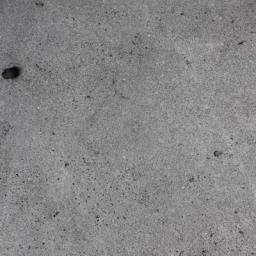FOD: (2, 63, 23, 84)
